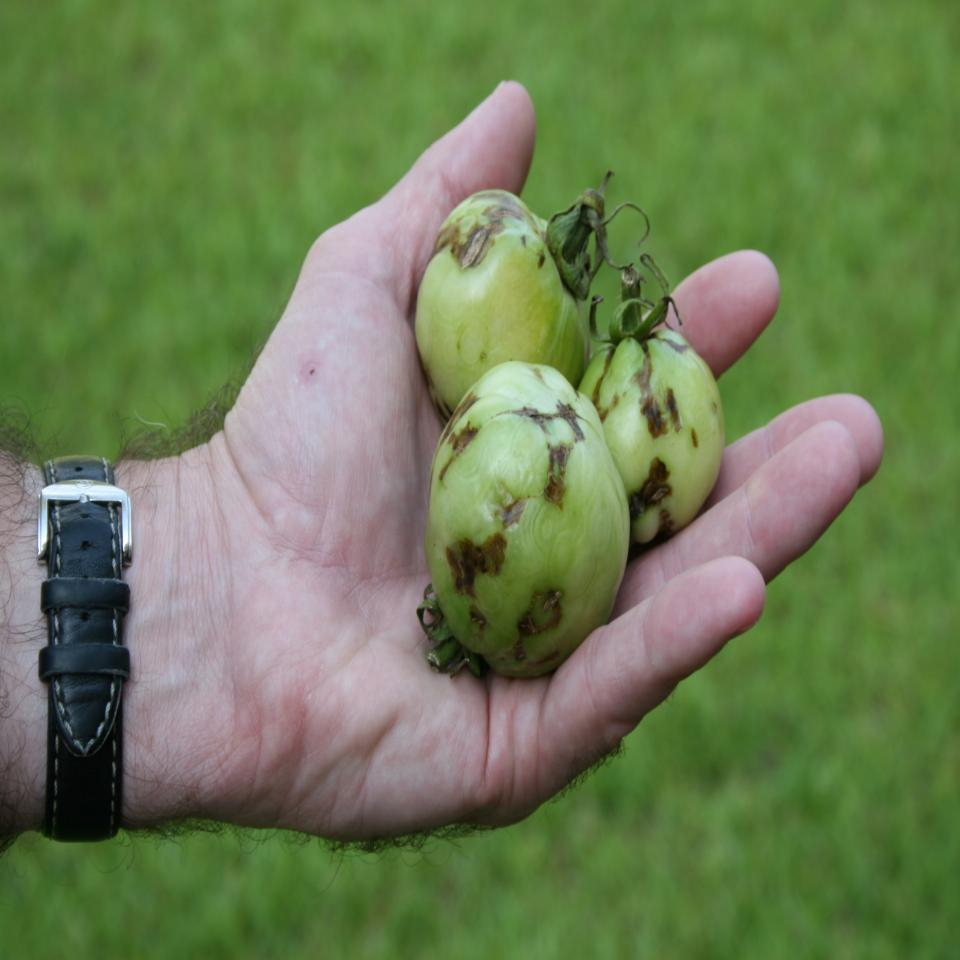Spotted wilt Virus: (429, 362, 626, 680), (414, 191, 593, 422), (581, 326, 726, 553)
